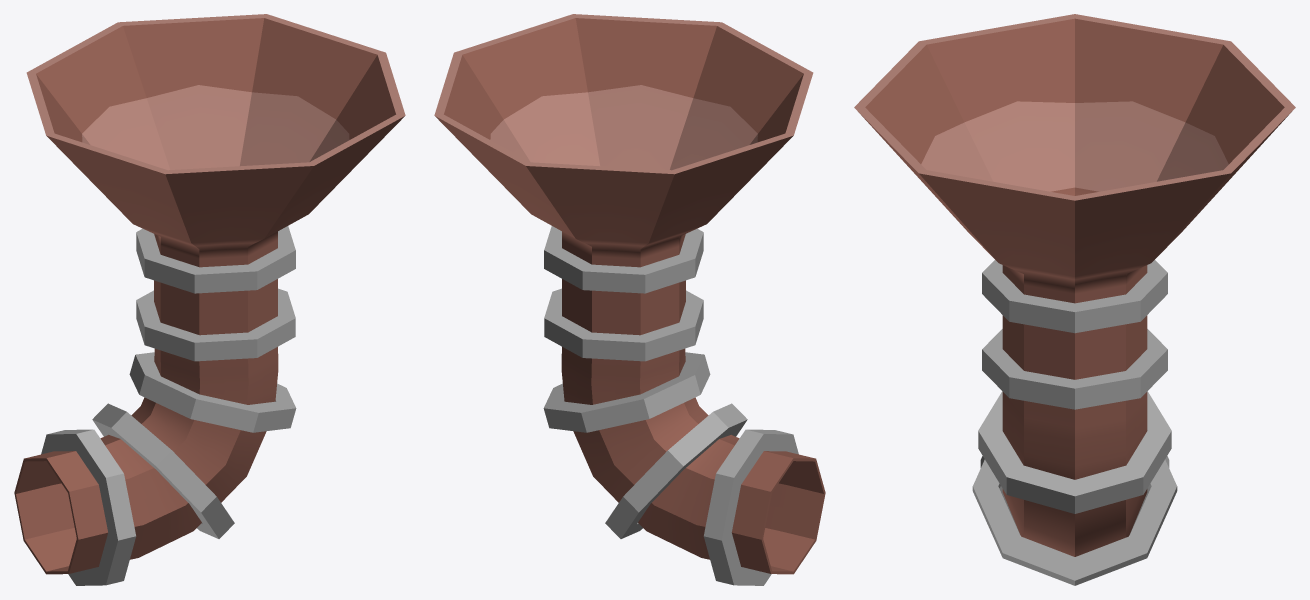
File: pipe.fbx
3 renders of one model, left to right at view 1: azimuth 30°, elevation 25°; view 2: azimuth 150°, elevation 25°; view 3: azimuth 270°, elevation 25°, orthographic. The views are drawn at different scales.
Parts seen in each view (by area): view 1: pPipe7; view 2: pPipe7; view 3: pPipe7.
Part boxes in pixels (<box>): pPipe7: <box>14,14,405,585</box>; pPipe7: <box>434,14,825,585</box>; pPipe7: <box>854,14,1295,585</box>.
Bounding box in the file's own units: 16.63 × 21.39 × 16.63.
